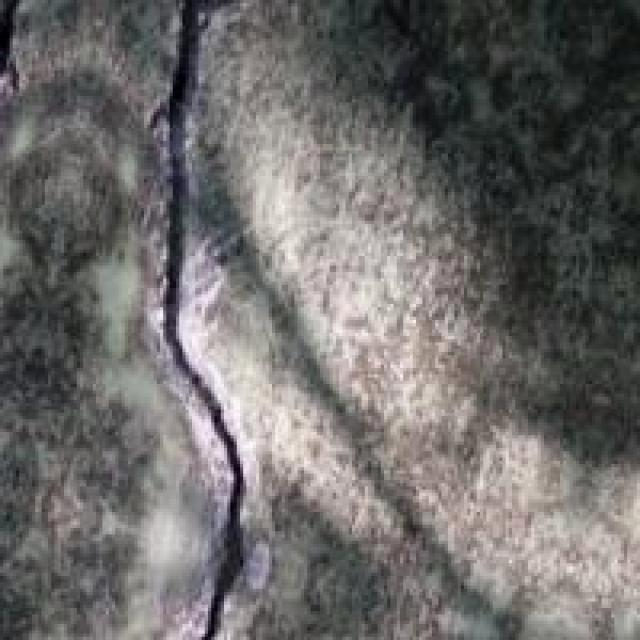crack: (126, 0, 294, 640)
